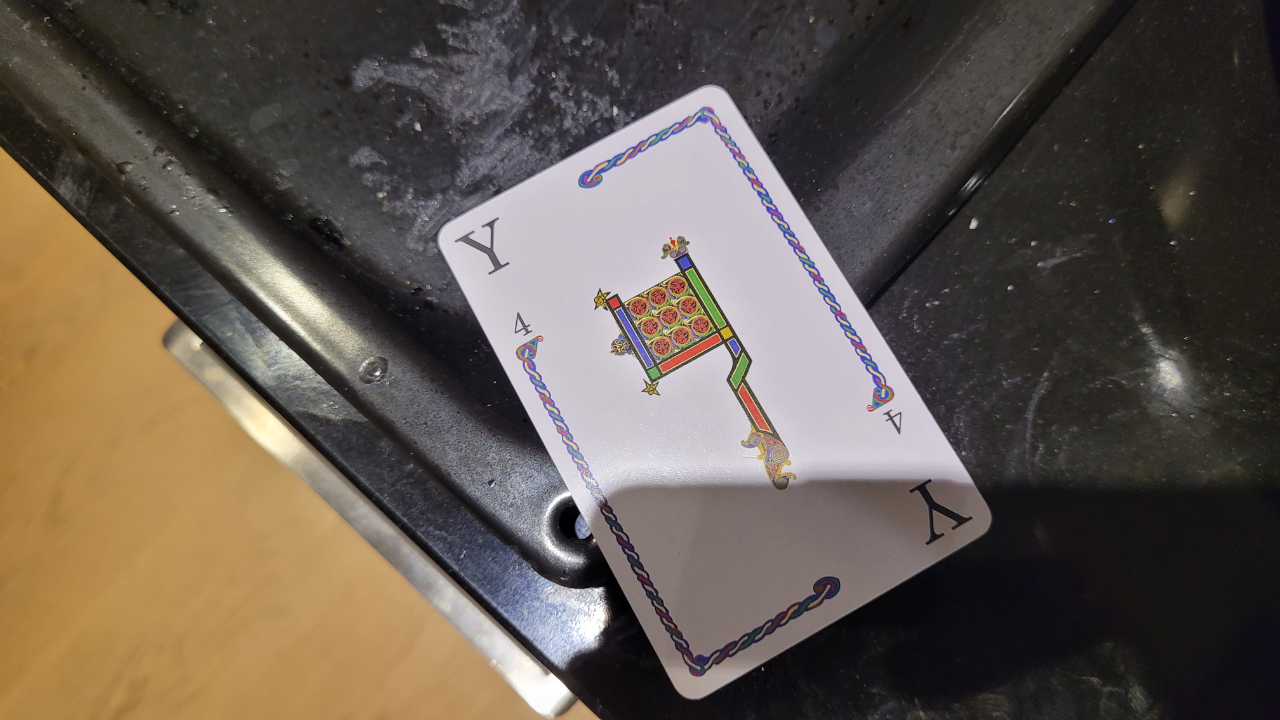quiddler_card: (413, 82, 1009, 706)
